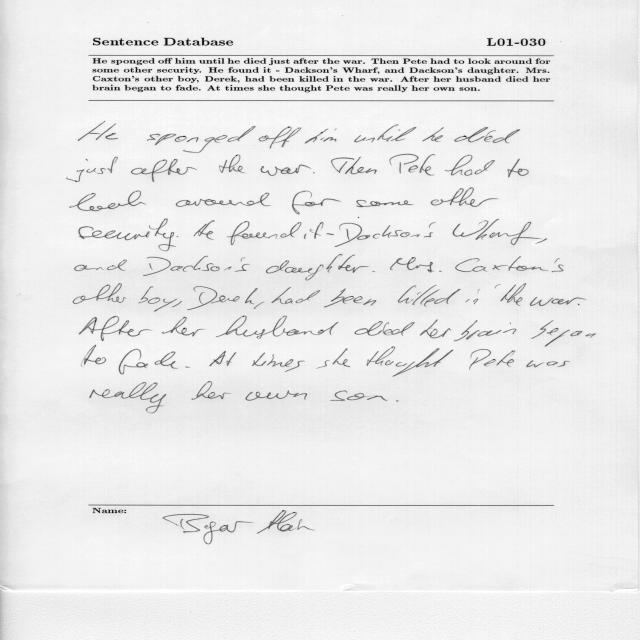word: (79, 219, 176, 252), (334, 217, 436, 247), (147, 126, 255, 153), (216, 316, 338, 339), (266, 255, 369, 281), (367, 347, 453, 377), (90, 382, 166, 413), (453, 219, 542, 245), (143, 256, 250, 276), (172, 286, 258, 310), (80, 316, 152, 341), (227, 221, 301, 245), (531, 320, 596, 347), (455, 257, 564, 273), (70, 191, 147, 212), (131, 159, 197, 182), (119, 349, 178, 374), (176, 193, 271, 207), (398, 285, 460, 306), (454, 321, 516, 342), (67, 157, 118, 182), (431, 188, 498, 207), (292, 191, 341, 215), (73, 283, 127, 304), (355, 125, 417, 143), (454, 127, 520, 143), (445, 155, 495, 176), (252, 353, 305, 372), (390, 154, 435, 176), (324, 289, 376, 308), (259, 127, 301, 149), (469, 349, 515, 369), (355, 321, 415, 336), (272, 287, 321, 304), (162, 317, 205, 336), (78, 121, 118, 141), (331, 157, 377, 174), (390, 257, 442, 272), (191, 382, 231, 400), (466, 285, 501, 305), (316, 349, 350, 369), (246, 390, 307, 401), (330, 390, 387, 401), (261, 164, 311, 176), (420, 320, 451, 339), (75, 260, 127, 271), (500, 284, 526, 306), (82, 345, 106, 367), (530, 297, 586, 306), (219, 155, 246, 173), (305, 129, 337, 144), (194, 220, 215, 240), (356, 200, 414, 207), (210, 351, 237, 366), (138, 286, 160, 304), (508, 159, 529, 177), (422, 127, 444, 142), (304, 222, 323, 239), (526, 361, 570, 368), (154, 299, 177, 312), (535, 238, 547, 244), (254, 302, 264, 309), (326, 233, 334, 235), (186, 366, 191, 368), (396, 400, 399, 402), (578, 304, 580, 306), (176, 236, 179, 237), (372, 271, 375, 272), (313, 172, 315, 173)
